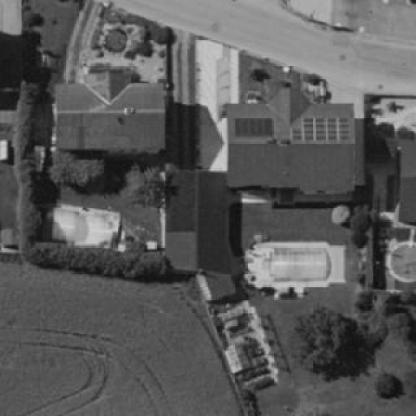solar-pv-panel: (293, 118, 349, 141), (234, 118, 273, 136)
